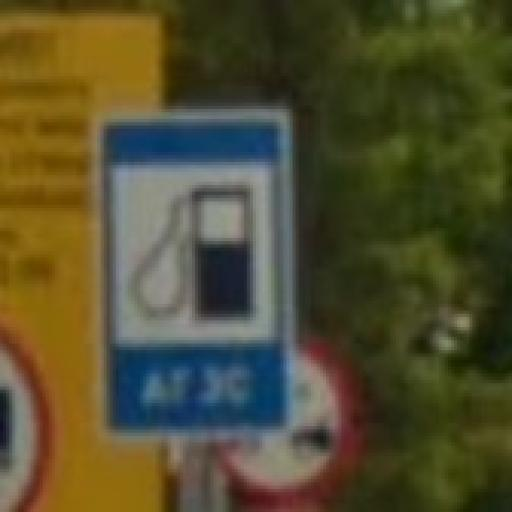traffic_sign: (99, 110, 291, 444)
